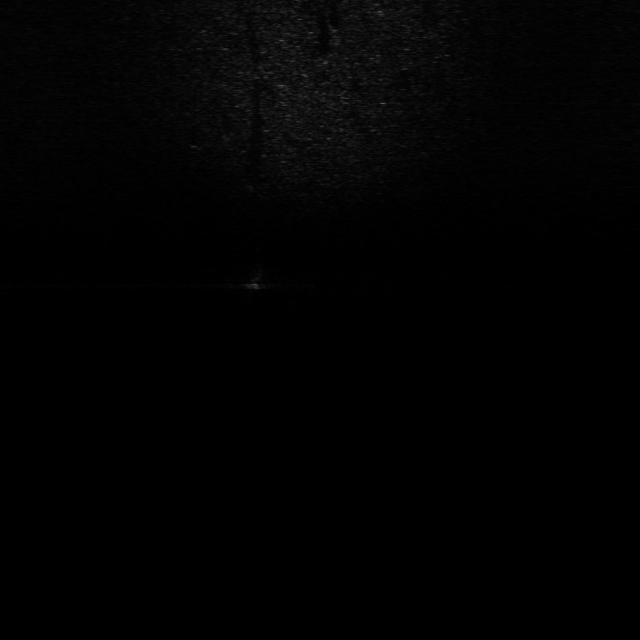human body: (234, 248, 270, 311)
